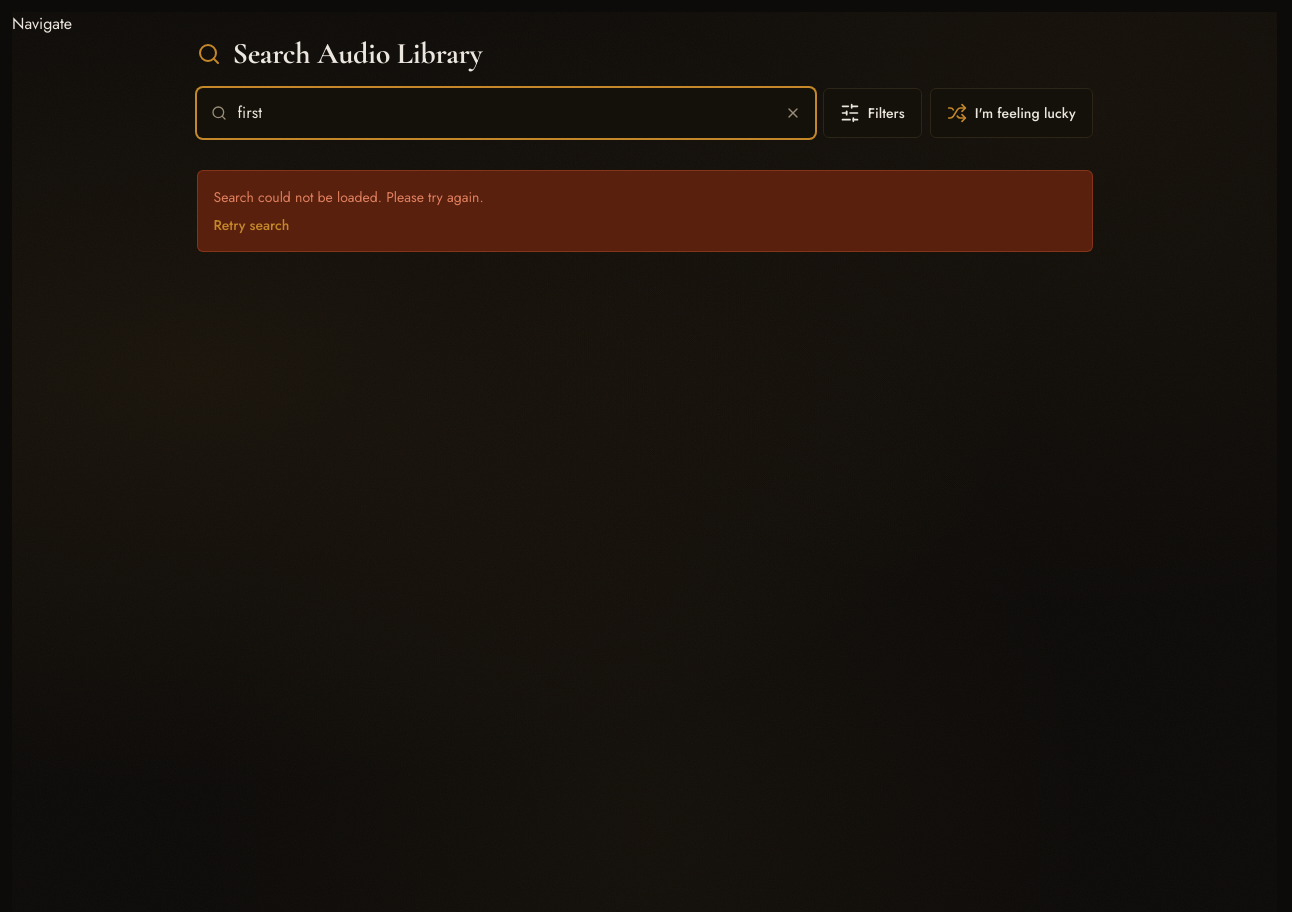
offers a retry instead of reporting an error as no matches
Expected: the message "Search could not be loaded. Please try again. Retry search" is shown, 196,170 -> 1092,252
Click the button "Retry search".
click(251, 225)  # box 214,215 -> 289,235
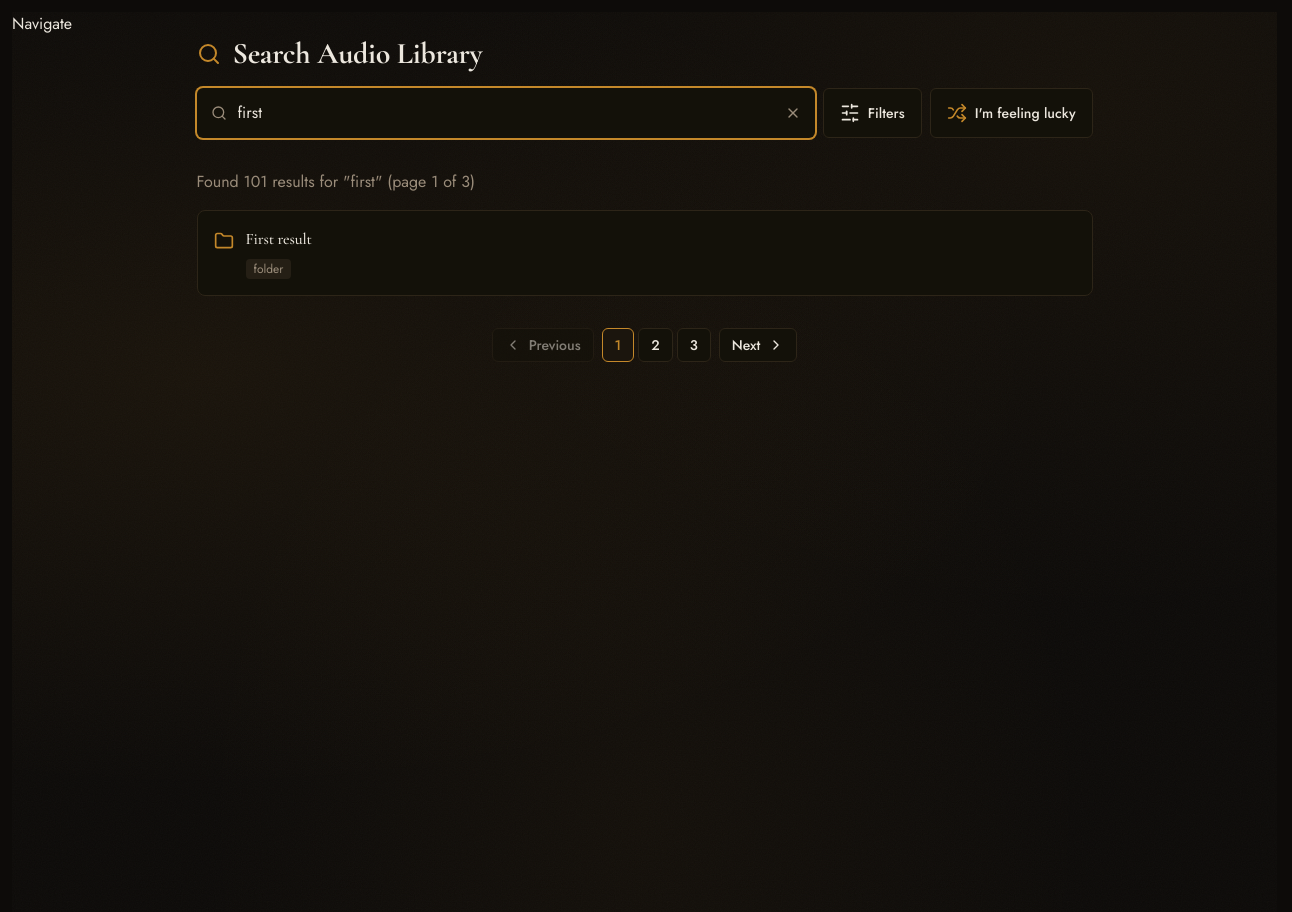
Expected: the heading "First result" is shown, 246,227 -> 312,251
Expected: the message "Search could not be loaded. Please try again. Retry search" is gone
